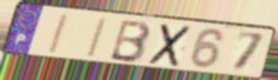6: (187, 27, 228, 72)
7: (234, 30, 266, 75)
B: (107, 19, 153, 65)
I: (84, 17, 109, 60), (46, 13, 71, 56)
X: (146, 22, 194, 69)
